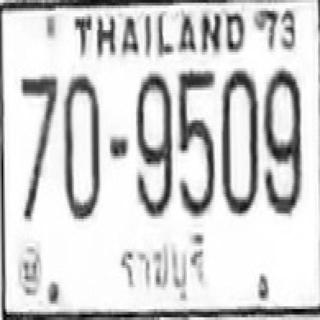N00: (220, 68, 258, 213), (62, 74, 100, 219)
N05: (177, 68, 213, 213)
N07: (19, 72, 57, 220), (20, 74, 57, 189)
N09: (263, 66, 300, 213), (134, 71, 170, 213)
P52: (112, 228, 210, 308)
